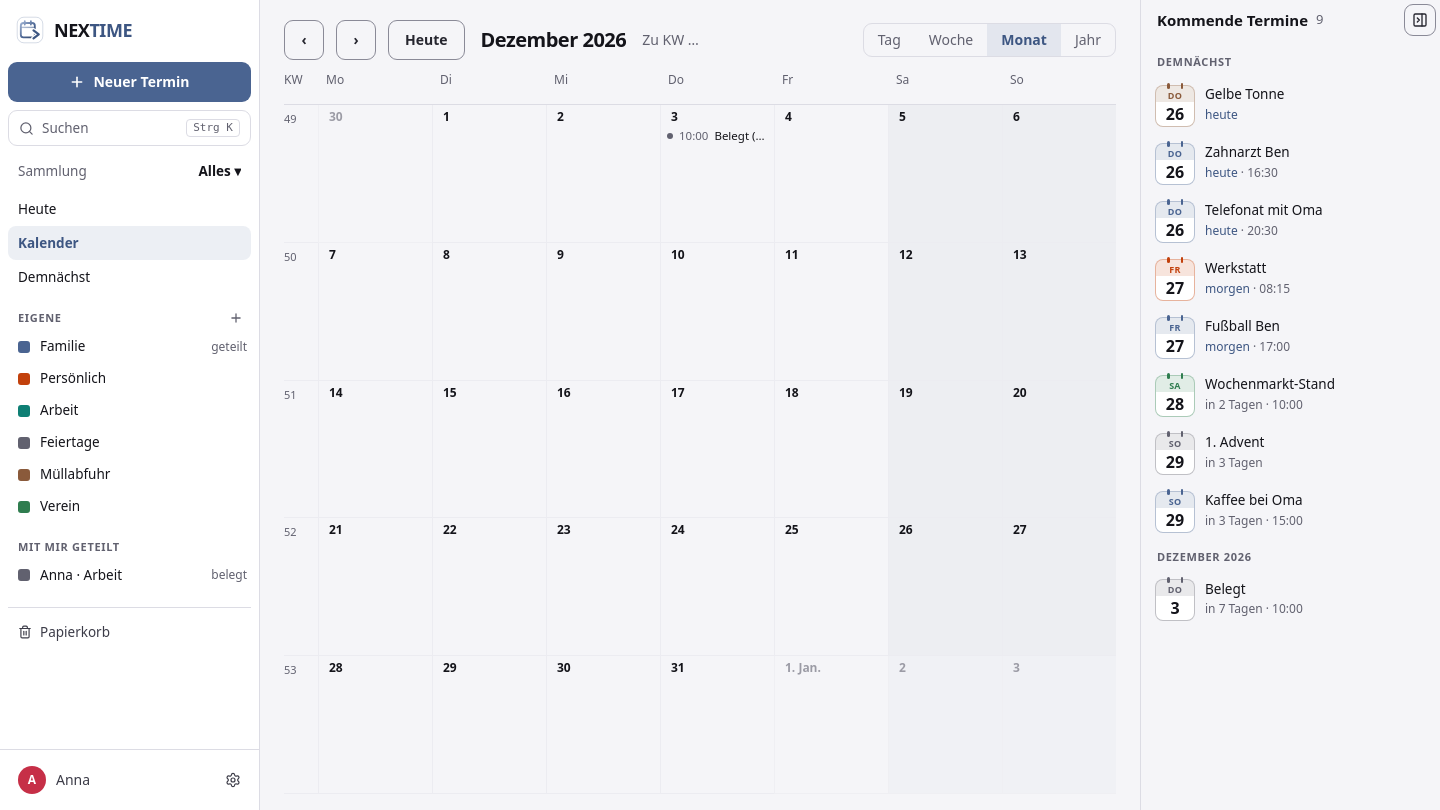
Scenario: TIME-12 jump date › TIME-12 jump date a day goes into the view shown: the week its week, the month its month, the day the day
The image size is (1440, 810).
Earlier steps of the test are not shown.
Later steps or results of the test are not shown.
Click the button "Dezember 2026". click: click(553, 40)
box: [476, 26, 630, 54]
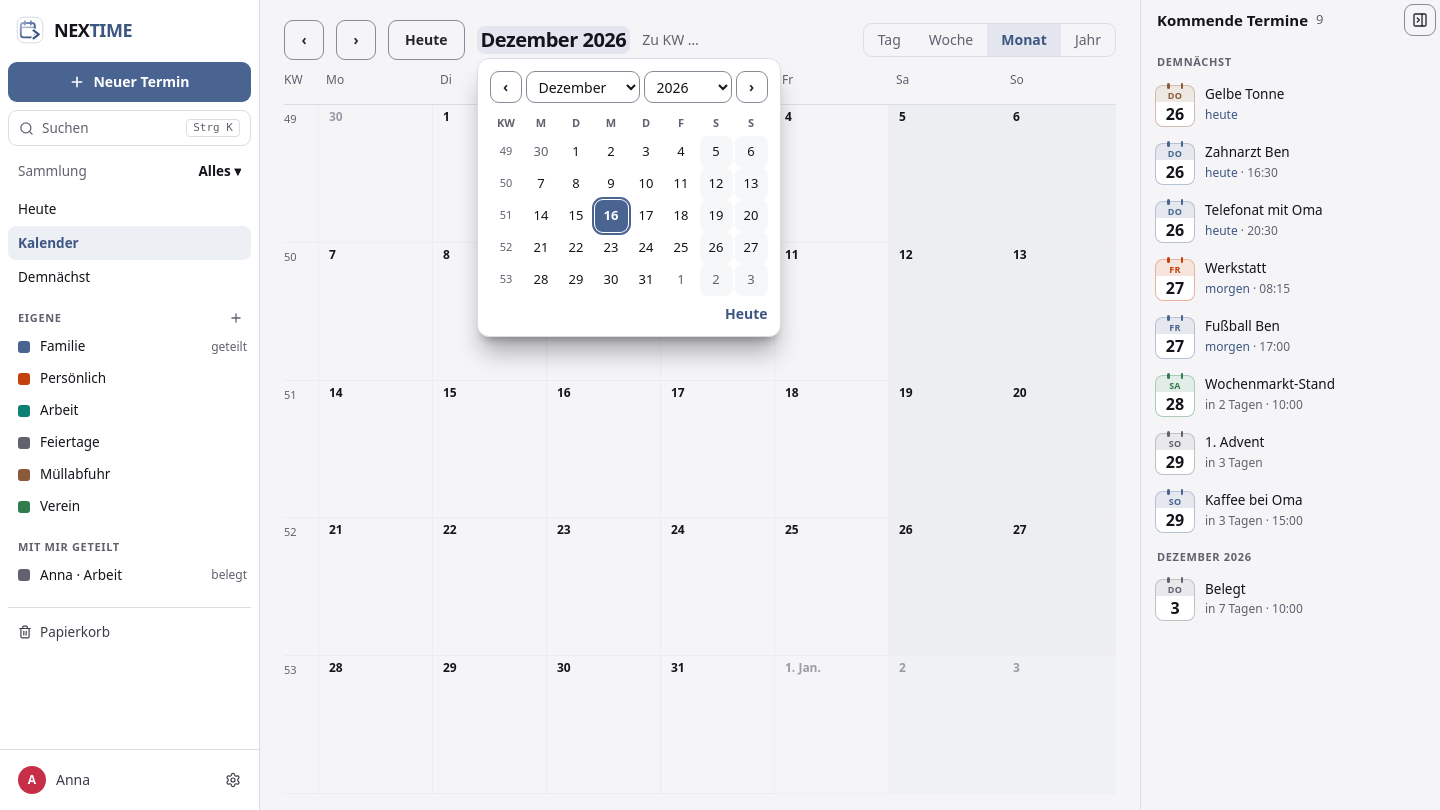
Select "2028" in the dropdown named "Jahr". click: (688, 87)
box: [644, 71, 732, 103]
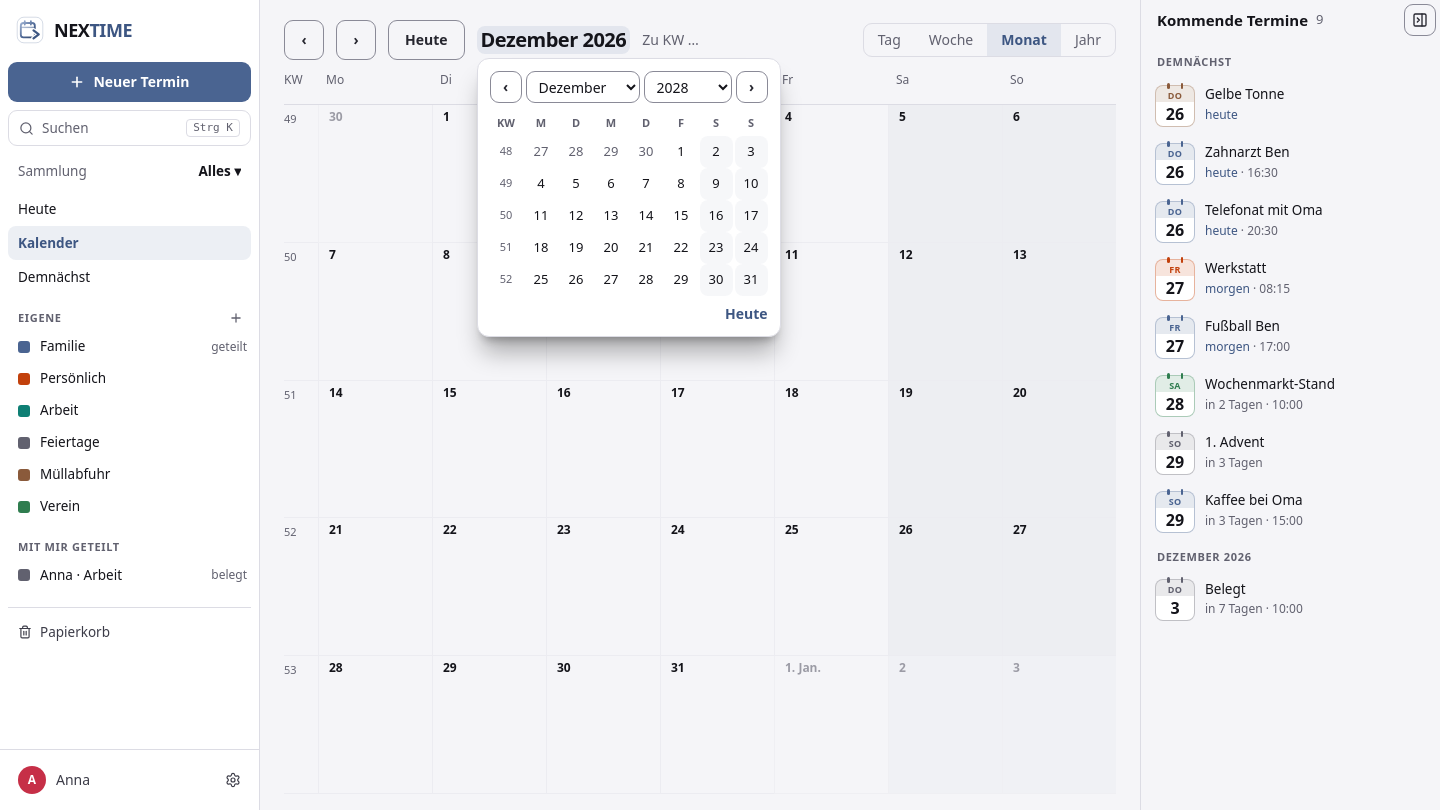
Select "Februar" in the dropdown named "Monat". click: (582, 87)
box: [526, 71, 640, 103]
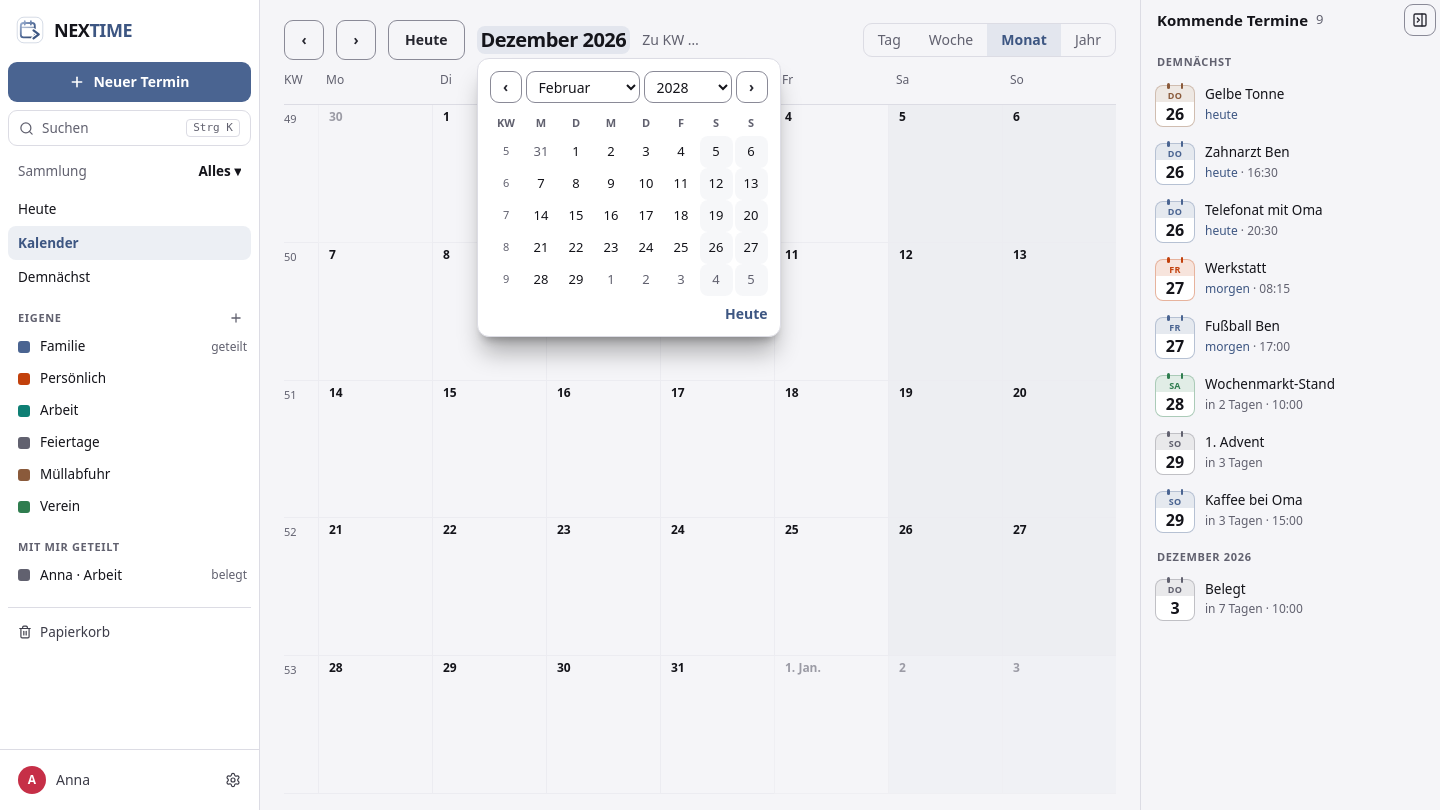
Click the cell "29". click: click(576, 280)
box: [560, 264, 592, 296]
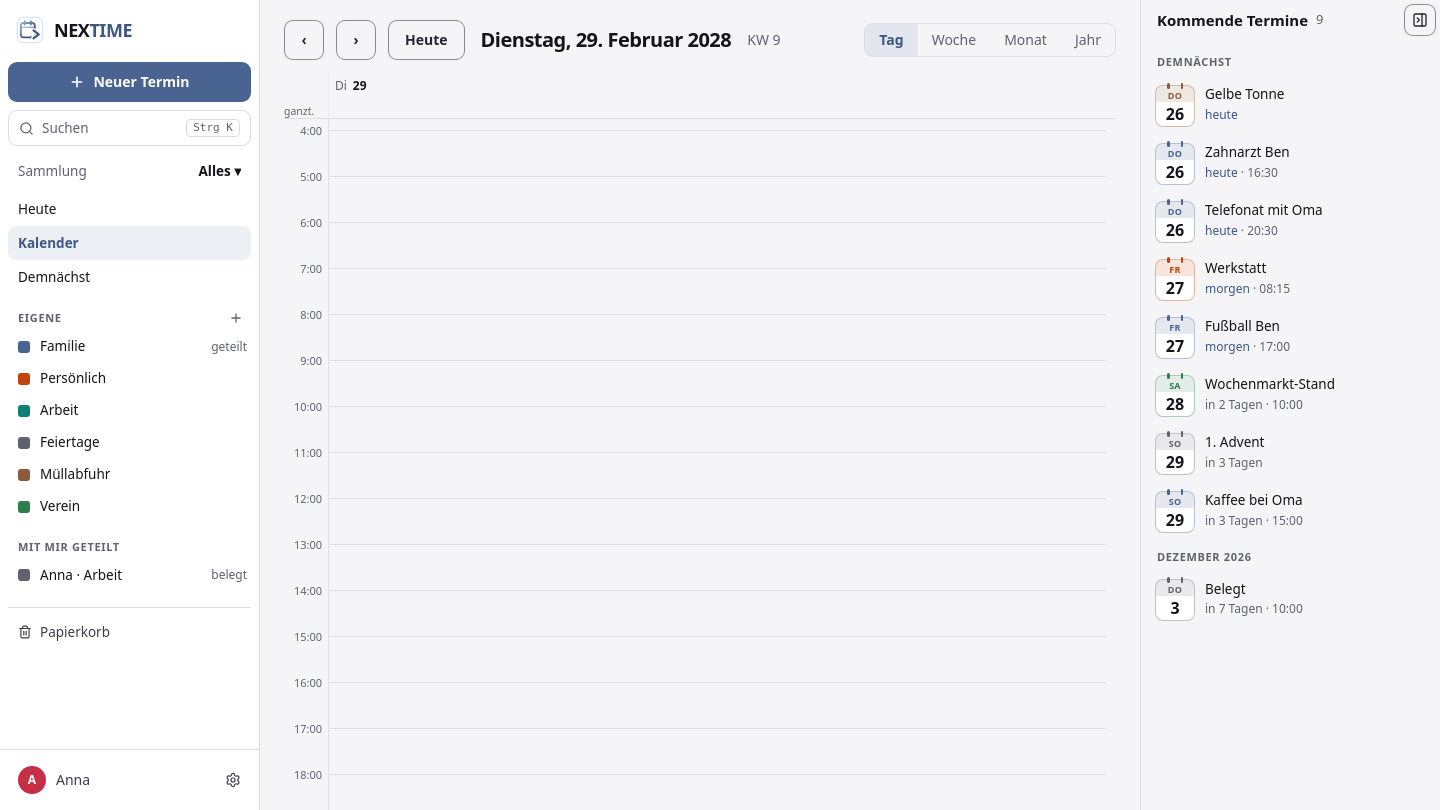
Check: the button "Dienstag, 29. Februar 2028" is shown
Click the button "Dienstag, 29. Februar 2028". click: click(606, 40)
box: [476, 26, 735, 54]
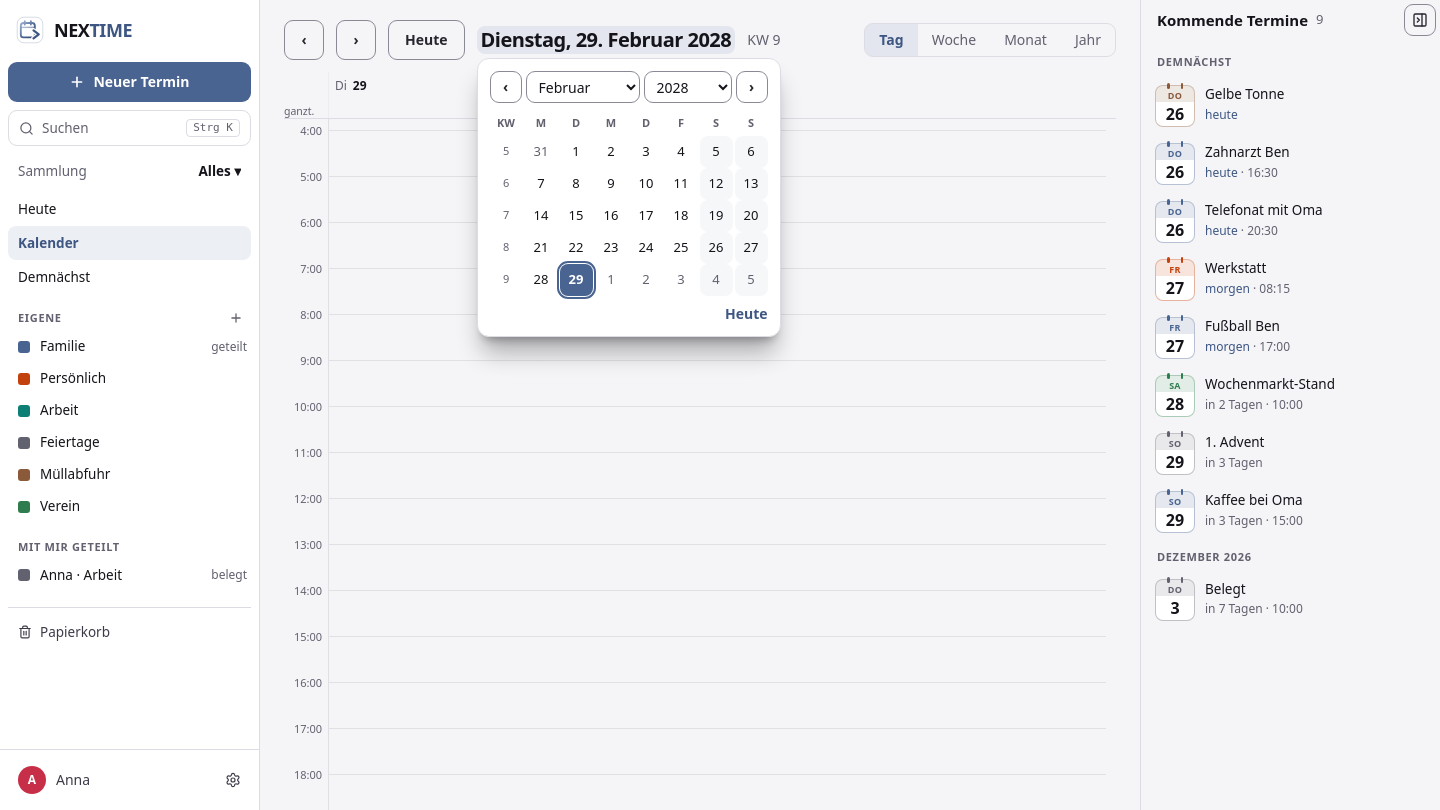
Click the 2nd button "Heute". click: click(746, 314)
box: [725, 304, 768, 324]
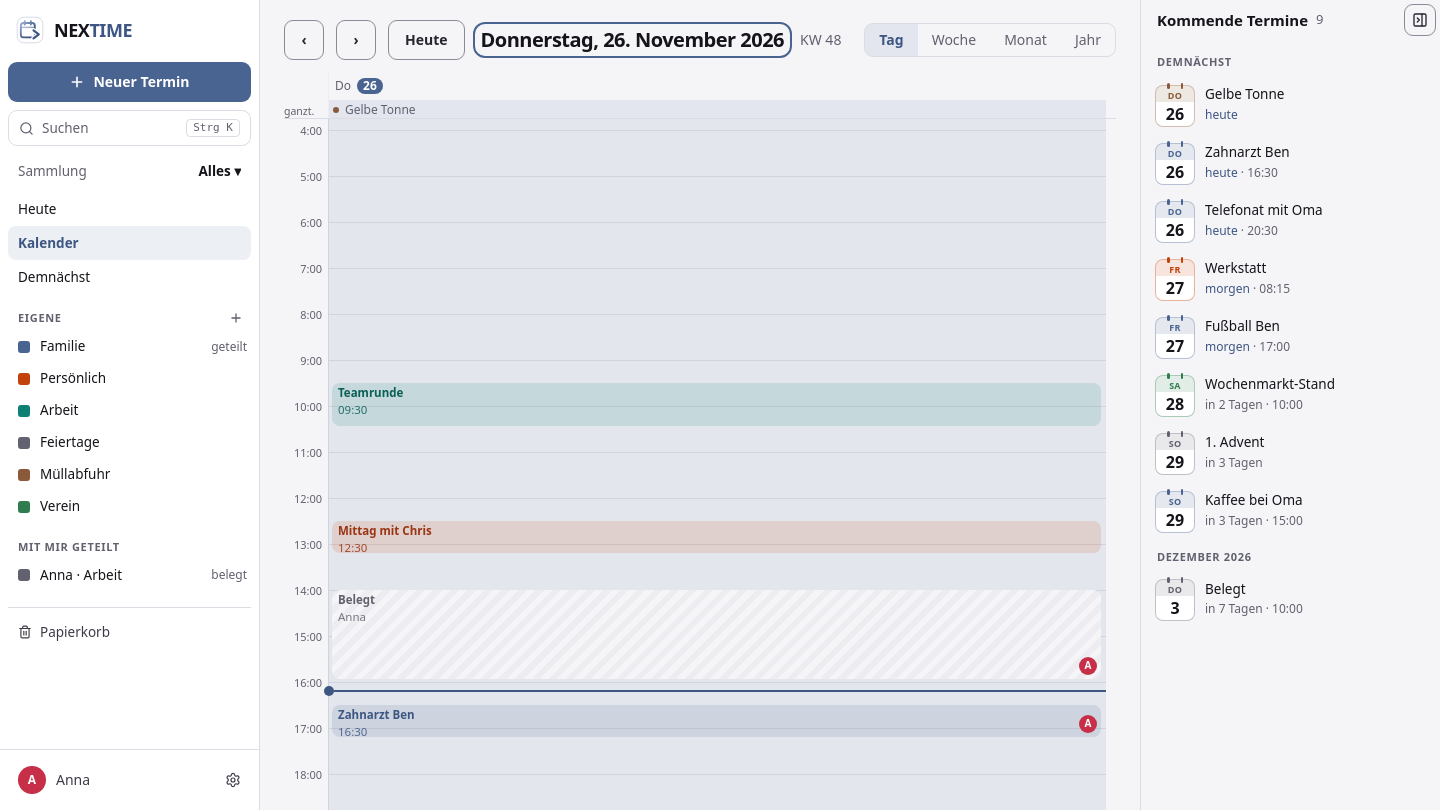
Check: the button "Donnerstag, 26. November 2026" is shown, box [476, 26, 788, 54]
